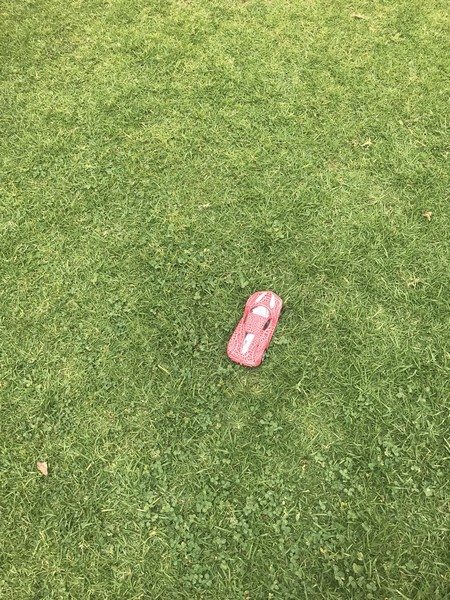RC: (224, 289, 285, 367)
